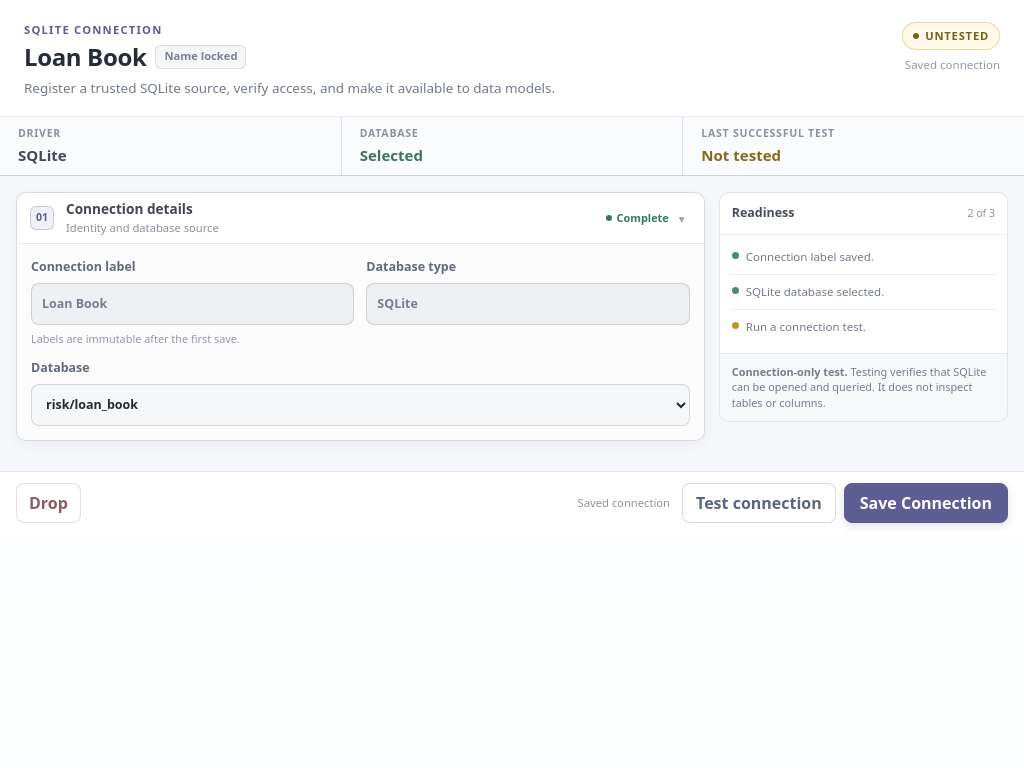
Test: ConnectionBuilder › tests a saved connection and refreshes the selected state
This screenshot has width=1024, height=768.
Expected: the heading "Loan Book" is shown, [24, 43, 146, 71]
Click the button "Test connection". click: coordinates (759, 503)
box: [682, 483, 836, 523]
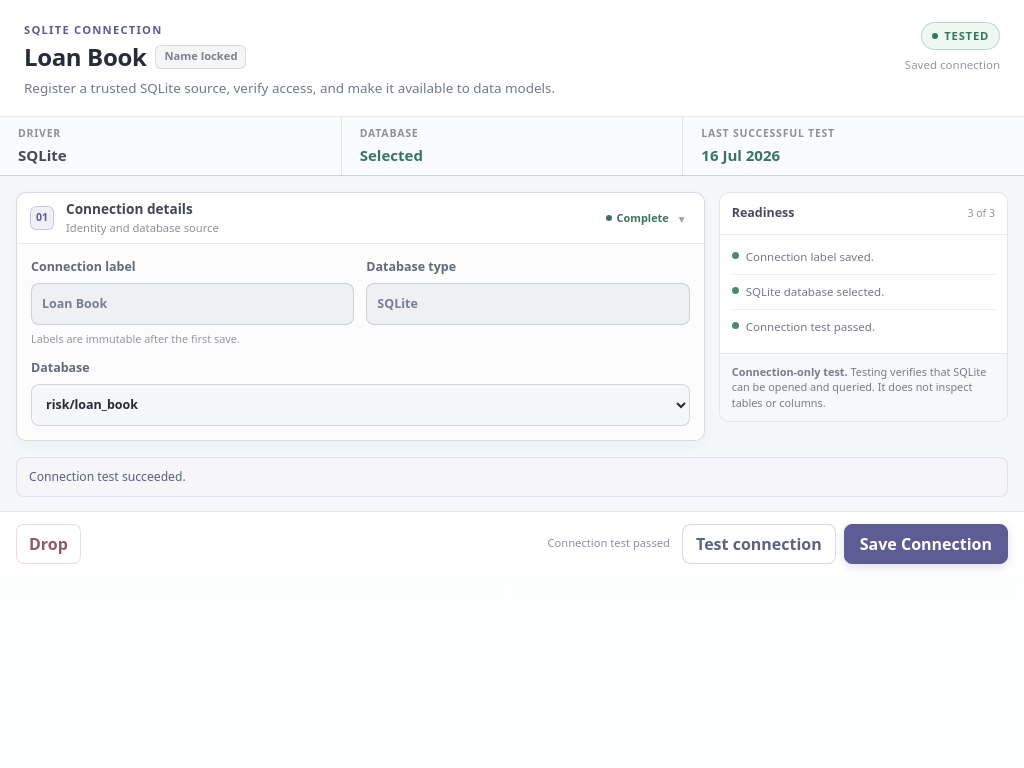
Result: the text "Connection test succeeded." is shown at [16, 457, 1008, 497]
